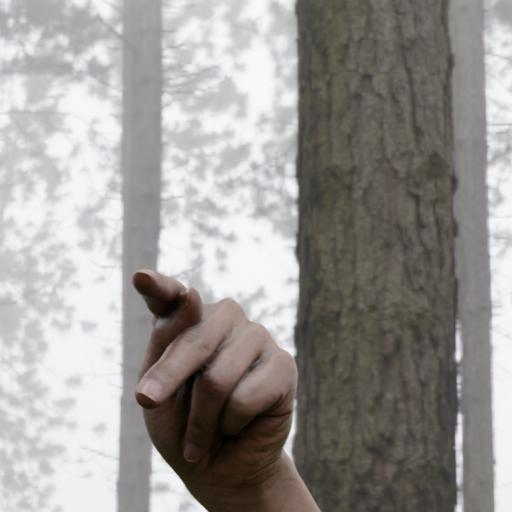P: (125, 266, 302, 493)
